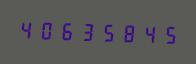eight: (117, 20, 136, 45)
five: (97, 19, 116, 44), (157, 22, 176, 46)
four: (137, 21, 156, 46), (17, 17, 36, 41)
six: (57, 18, 76, 43)
three: (77, 19, 96, 43)
zero: (37, 17, 56, 42)
